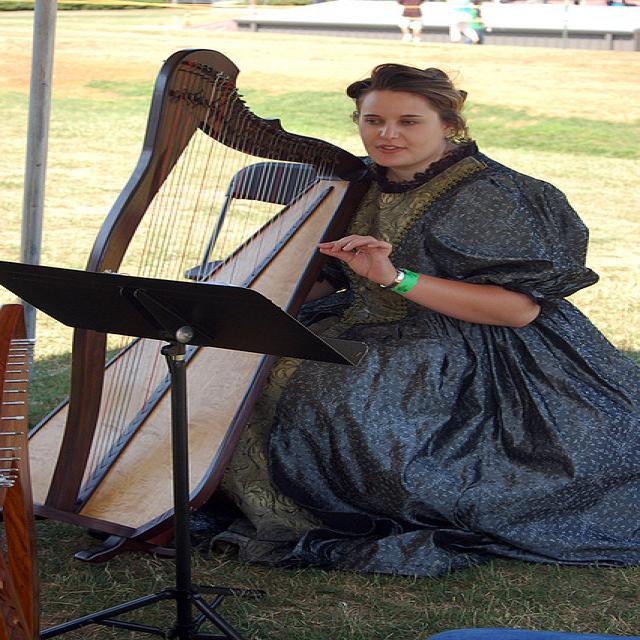harp: (2, 42, 379, 544)
